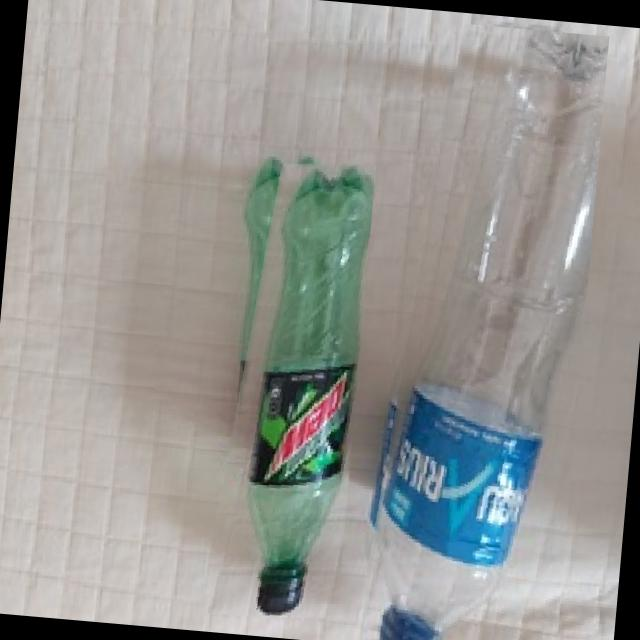plastic bottle: (354, 17, 608, 640), (196, 148, 375, 622)
